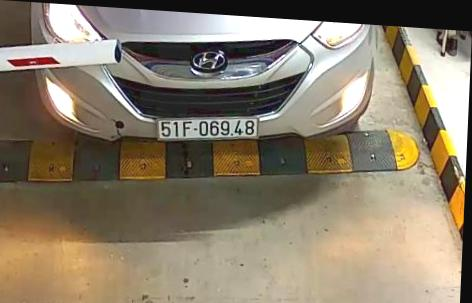License_Plate: (151, 107, 264, 150)
